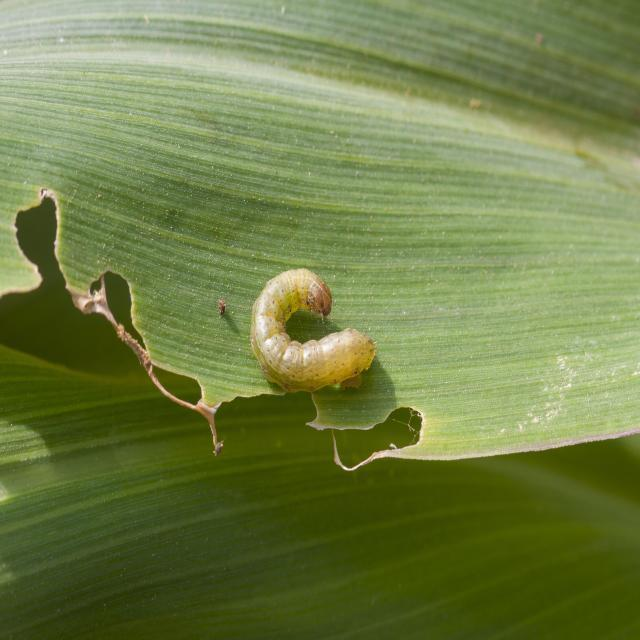army worm: (232, 233, 386, 400)
